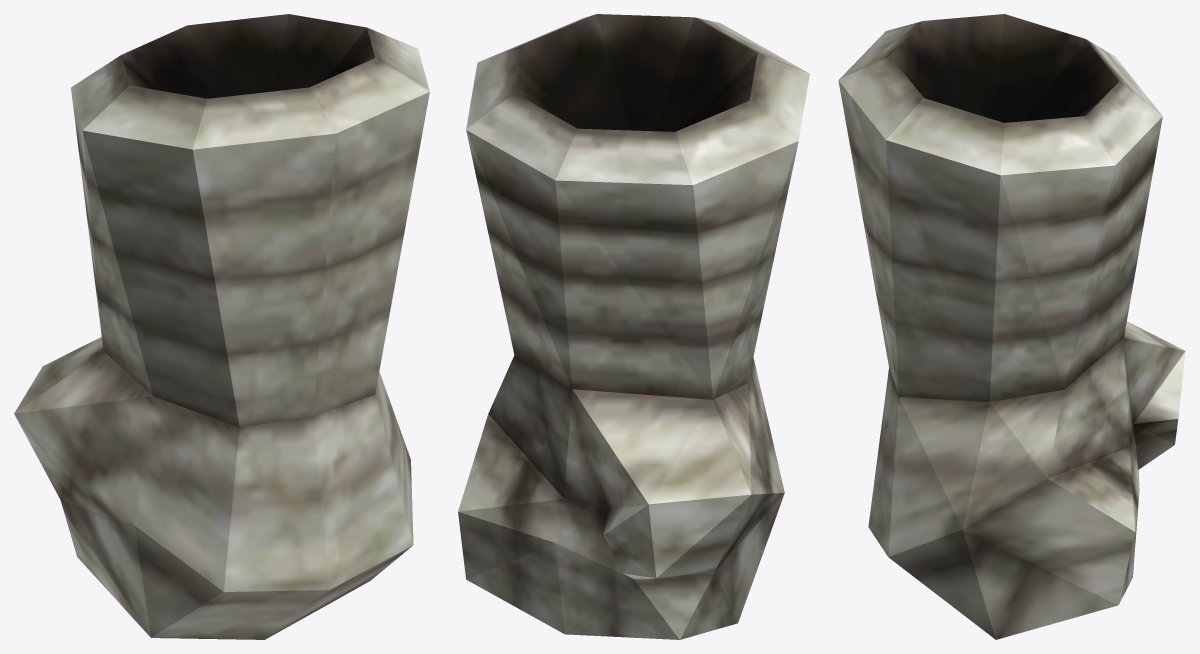
The model's file is Panda_fighterFist_right.obj.
The picture shows the model from 3 angles, left to right: view 1: azimuth 30°, elevation 25°; view 2: azimuth 150°, elevation 25°; view 3: azimuth 270°, elevation 25°; orthographic projection. The views are drawn at different scales.
Parts seen in each view (by area): view 1: Panda_fighterFist_tri [right]; view 2: Panda_fighterFist_tri [right]; view 3: Panda_fighterFist_tri [right].
Part boxes in pixels (left/top/right/bottom): Panda_fighterFist_tri [right]: left=14, top=14, right=429, bottom=639; Panda_fighterFist_tri [right]: left=458, top=14, right=809, bottom=639; Panda_fighterFist_tri [right]: left=838, top=14, right=1185, bottom=639.
Size of the model in its own units: 0.1087 by 0.1786 by 0.1005.
Materials: 1 (1 with a texture image).
